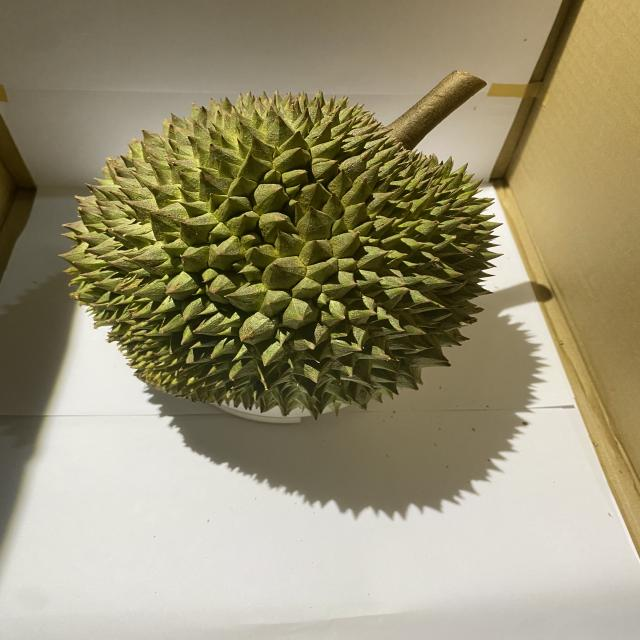immature: (54, 84, 502, 424)
